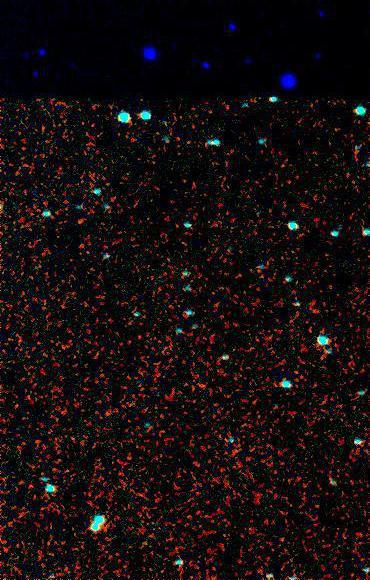star: (68, 210, 98, 240)
